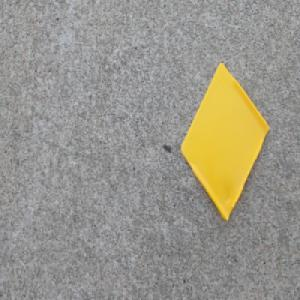PlasticPart: (179, 61, 270, 222)
